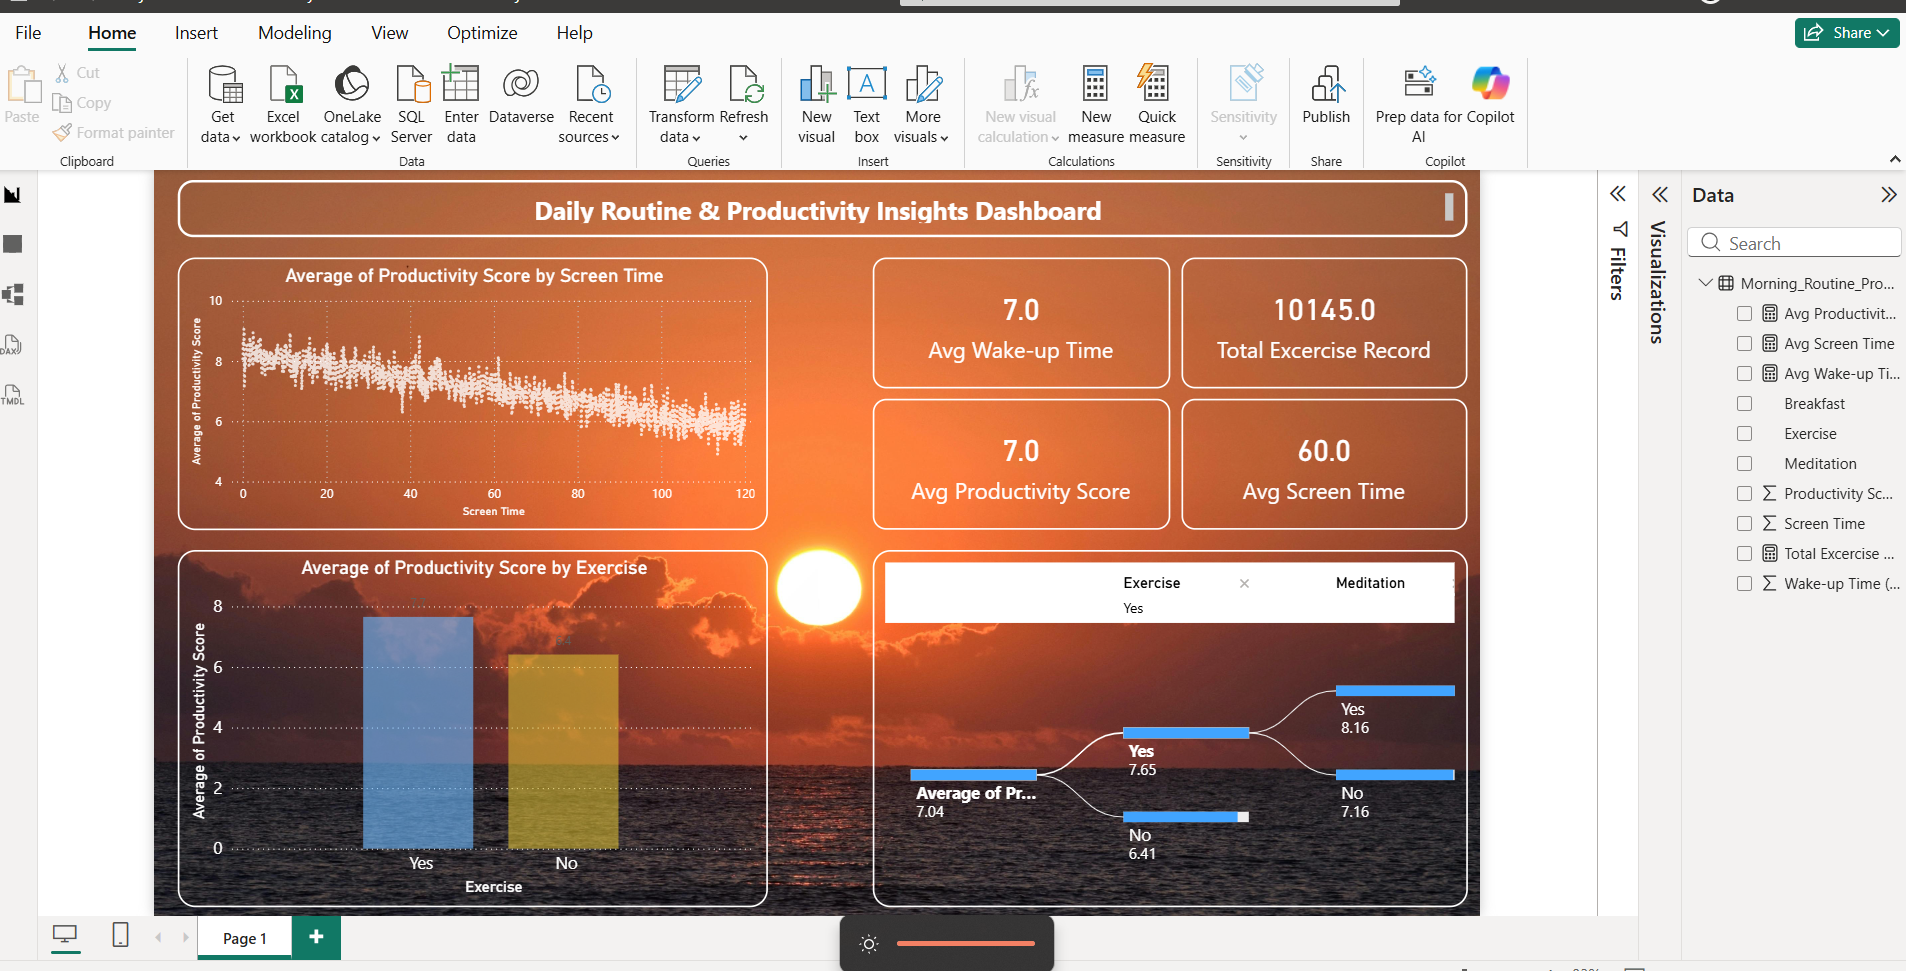

What the dashboard file says about the page in this screenshot:
{"tool":"powerbi","page":{"name":"Page 1","canvas":[1280,720],"ordinal":0},"visuals":[{"type":"columnChart","fields":{"Y":["Avg(Morning_Routine_Productivity.Productivity Score)"],"Category":["Morning_Routine_Productivity.Exercise"]},"box":[22.9,366.8,569.4,345],"z":0},{"type":"lineChart","fields":{"Y":["Avg(Morning_Routine_Productivity.Productivity Score)"],"Category":["Morning_Routine_Productivity.Screen Time Before Work (min)"]},"box":[22.9,84.5,569.4,263],"z":1000},{"type":"decompositionTreeVisual","fields":{"Analyze":["Avg(Morning_Routine_Productivity.Productivity Score)"],"ExplainBy":["Morning_Routine_Productivity.Exercise","Morning_Routine_Productivity.Meditation"]},"box":[693.7,366.8,574.3,345],"z":2000},{"type":"card","fields":{"Values":["Morning_Routine_Productivity.Avg Productivity Score"]},"box":[693.7,220.8,287.1,126.7],"z":3000},{"type":"card","fields":{"Values":["Morning_Routine_Productivity.Avg Screen Time"]},"box":[991.7,220.8,276.3,126.7],"z":4000},{"type":"card","fields":{"Values":["Morning_Routine_Productivity.Avg Wake-up Time"]},"box":[693.7,84.5,287.1,126.7],"z":5000},{"type":"card","fields":{"Values":["Morning_Routine_Productivity.Excercise count"]},"box":[991.7,84.5,276.3,126.7],"z":6000},{"type":"textbox","box":[22.9,9.7,1245,55.5],"z":7000}]}

Visuals, with their boxes on the page's 1280x720 design canvas (x1, y1, x2, y2). These are canvas units, not pixel positions in the 1906x971 screenshot, which may show the page scaled, cropped or inside an application window:
columnChart - Avg(Morning_Routine_Productivity.Productivity Score) x Morning_Routine_Productivity.Exercise: <box>23,367,592,712</box>
lineChart - Avg(Morning_Routine_Productivity.Productivity Score) x Morning_Routine_Productivity.Screen Time Before Work (min): <box>23,84,592,348</box>
decompositionTreeVisual - Avg(Morning_Routine_Productivity.Productivity Score) x Morning_Routine_Productivity.Exercise: <box>694,367,1268,712</box>
card - Morning_Routine_Productivity.Avg Productivity Score: <box>694,221,981,348</box>
card - Morning_Routine_Productivity.Avg Screen Time: <box>992,221,1268,348</box>
card - Morning_Routine_Productivity.Avg Wake-up Time: <box>694,84,981,211</box>
card - Morning_Routine_Productivity.Excercise count: <box>992,84,1268,211</box>
textbox: <box>23,10,1268,65</box>
